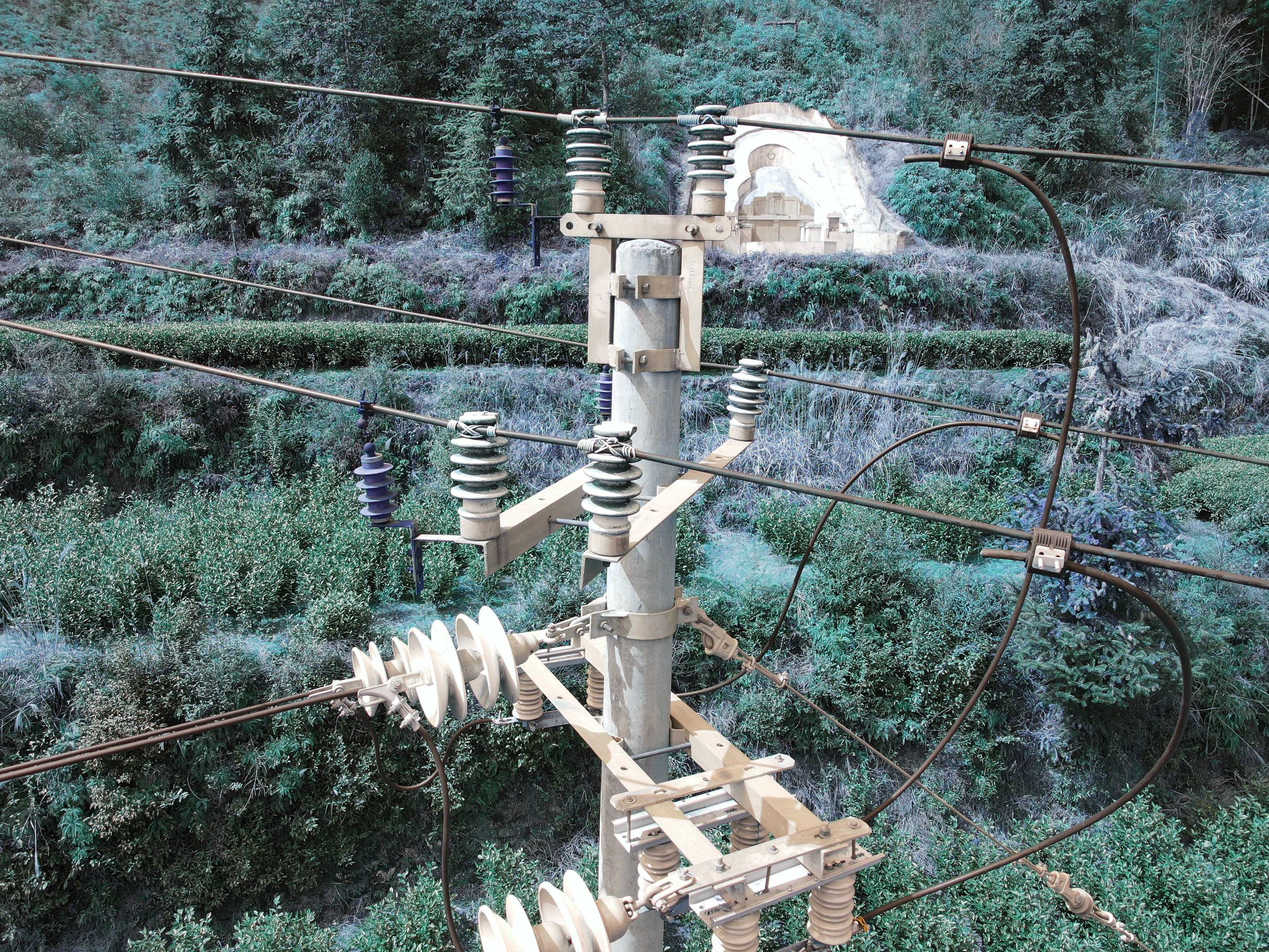severe_soiling_no_discharge_whole: (404, 604, 537, 726), (577, 418, 646, 551), (447, 408, 512, 536), (682, 98, 738, 216), (558, 104, 616, 212), (723, 356, 771, 438)
